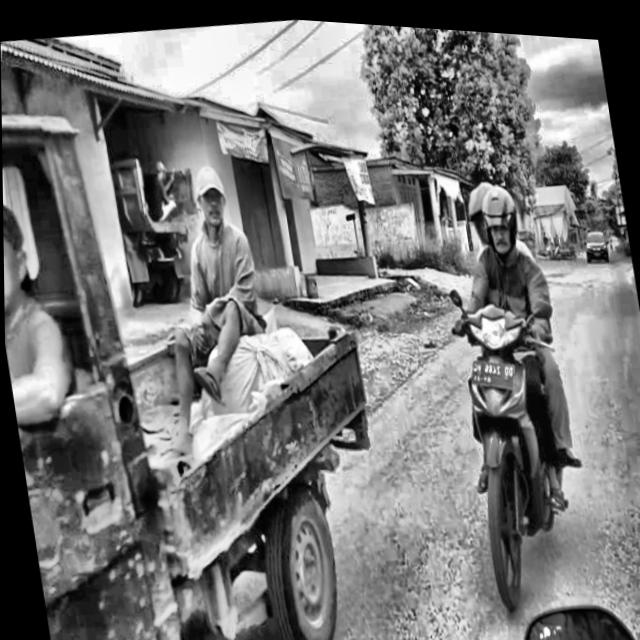motorcycle: (391, 276, 609, 618)
